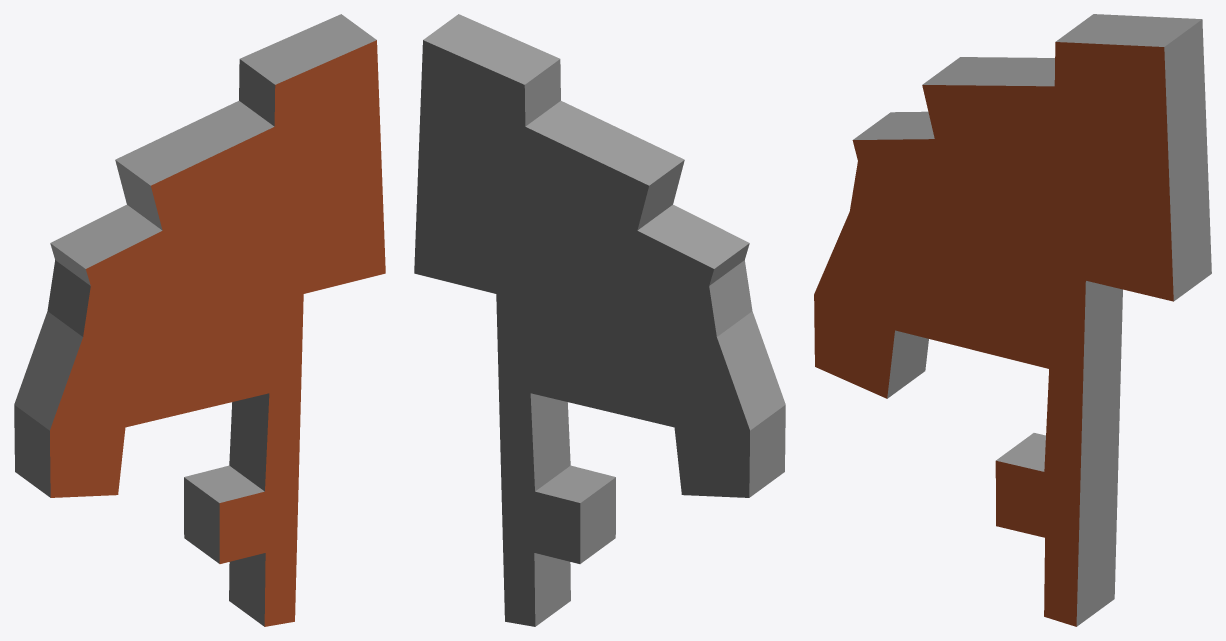
File: construction_4278_assumed_A_Casa_h6m.obj
3 views of the same model, side by side, from view 1: azimuth 30°, elevation 25°; view 2: azimuth 150°, elevation 25°; view 3: azimuth 330°, elevation 25° (orthographic). The views are drawn at different scales.
Visible parts, largest first — view 1: construction_4278_assumed_A_Casa; view 2: construction_4278_assumed_A_Casa; view 3: construction_4278_assumed_A_Casa.
Boxes of the visible parts, x1,y1,x2,y2 form: construction_4278_assumed_A_Casa: [14, 14, 385, 626]; construction_4278_assumed_A_Casa: [414, 14, 785, 626]; construction_4278_assumed_A_Casa: [814, 14, 1211, 626].
Size of the model in its own units: 32.66 by 52.17 by 6.
